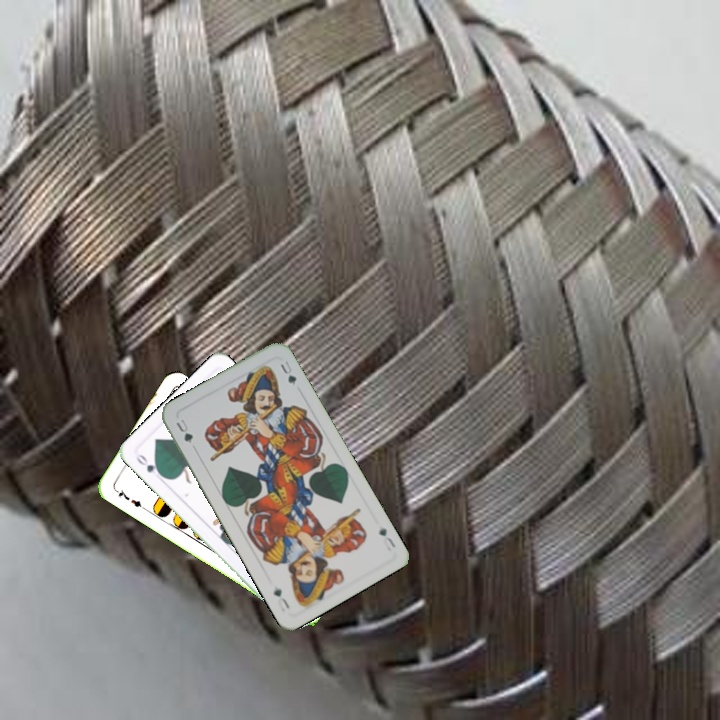E7: (111, 485, 147, 512)
GO: (131, 450, 166, 480)
GU: (172, 415, 196, 446), (375, 524, 398, 553)
